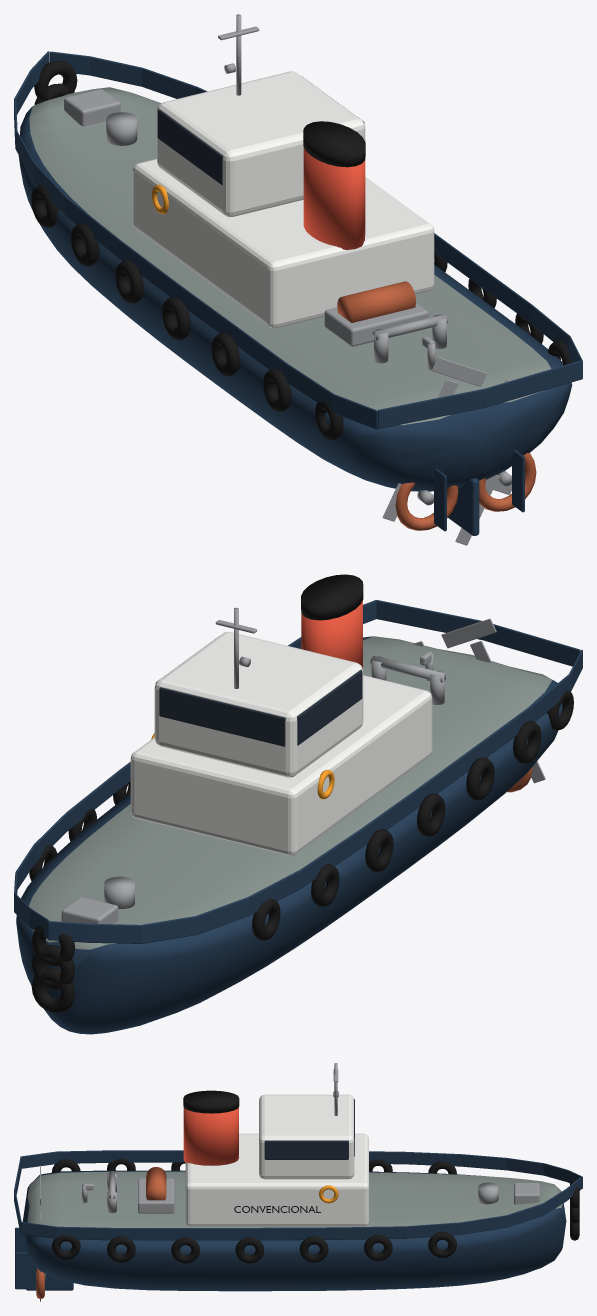
File: rebocador_convencional.glb
3 views of the same model, one above another, from view 1: azimuth 30°, elevation 25°; view 2: azimuth 150°, elevation 25°; view 3: azimuth 270°, elevation 25° (orthographic). The views are drawn at different scales.
Visible parts, largest first — view 1: rebocador_convencional; view 2: rebocador_convencional; view 3: rebocador_convencional.
Part boxes in pixels (x1=…): rebocador_convencional: x1=14, y1=14, x2=582, y2=545; rebocador_convencional: x1=14, y1=574, x2=582, y2=1034; rebocador_convencional: x1=14, y1=1063, x2=582, y2=1301.
Size of the model in its own units: 11.02 by 14.28 by 31.
